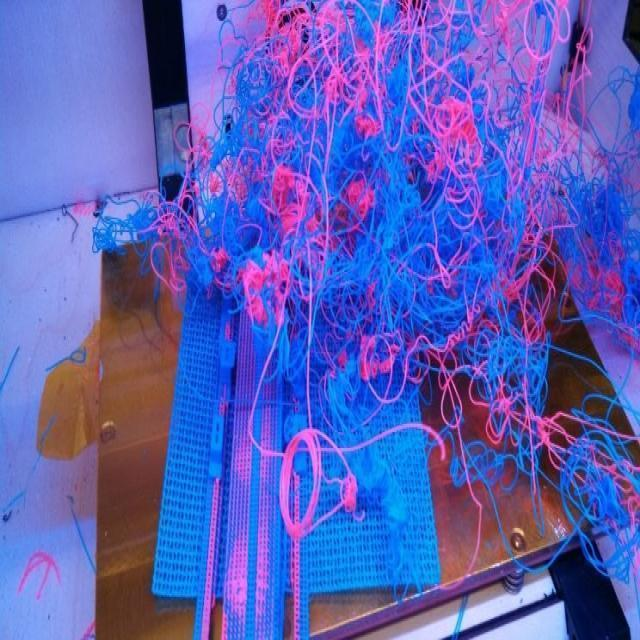spaghetti: (178, 12, 628, 526)
